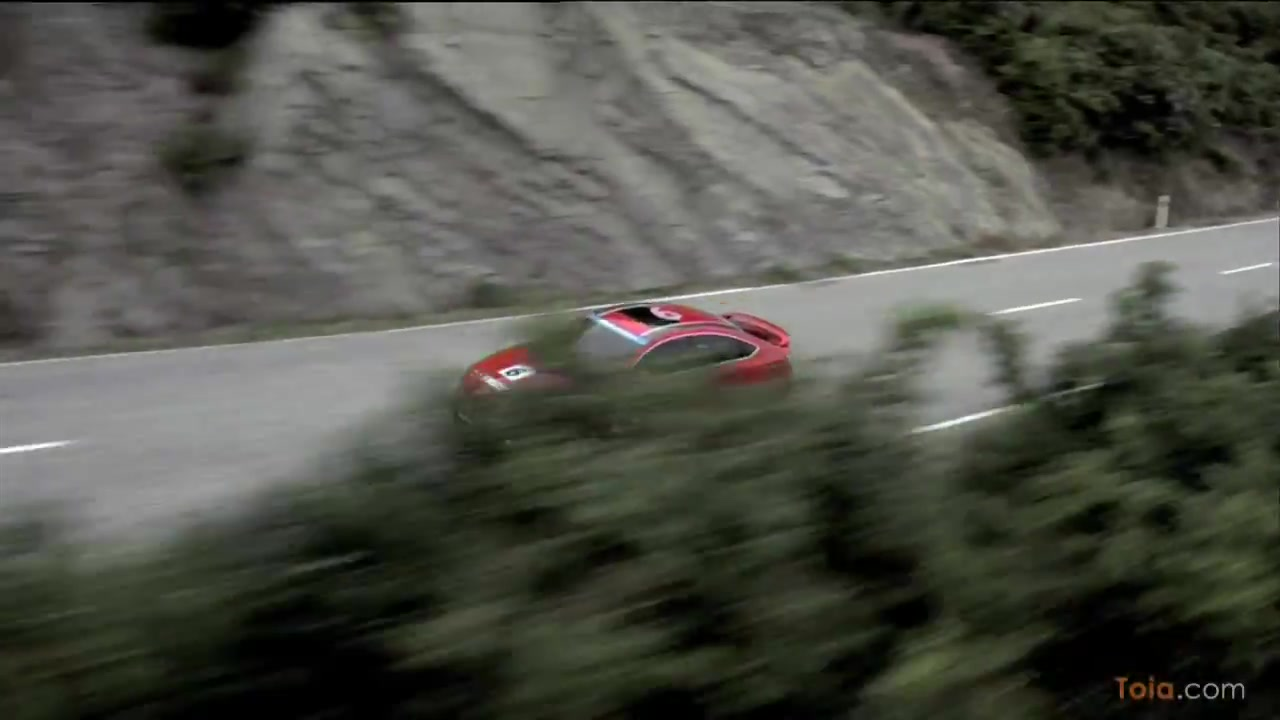car: (458, 299, 800, 454)
